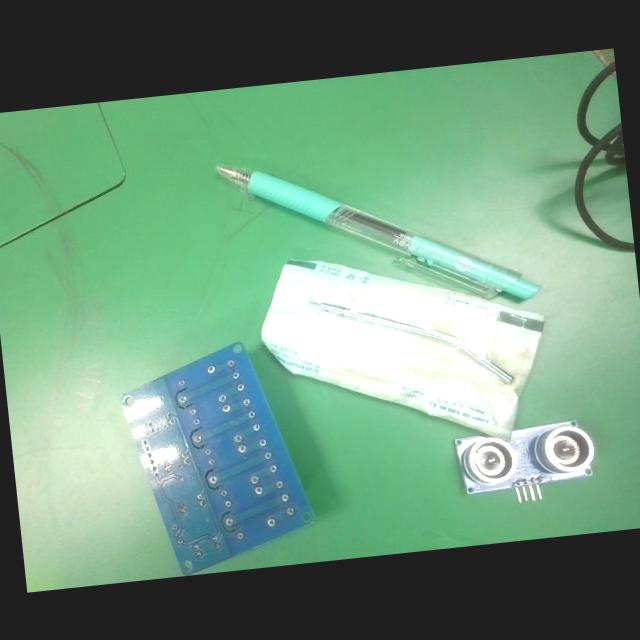relay_module: (116, 334, 320, 580)
triple_syringe: (306, 278, 515, 403)
ultrasonic_hc-sr04: (453, 418, 599, 508)
